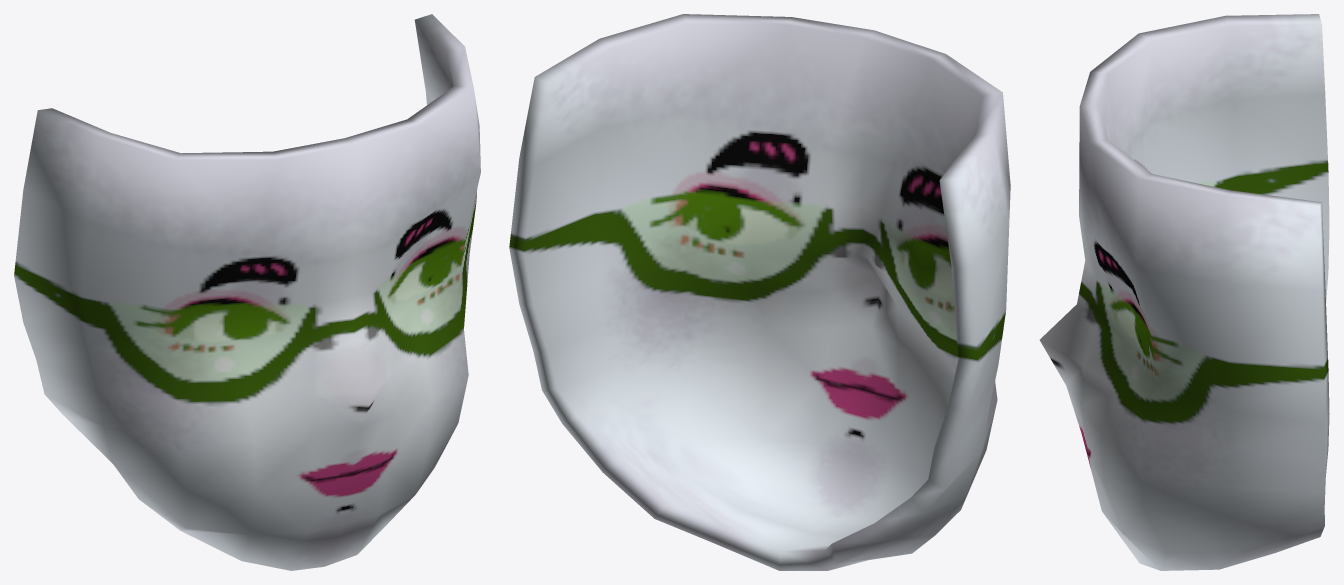
Rendered from mask_base 1.fbx.
The picture shows the model from 3 angles, left to right: view 1: azimuth 30°, elevation 25°; view 2: azimuth 150°, elevation 25°; view 3: azimuth 270°, elevation 25°; orthographic projection. The views are drawn at different scales.
Visible parts, largest first — view 1: Body_LP; view 2: Body_LP; view 3: Body_LP.
Part boxes in pixels (x1,y1,x2,y2): Body_LP: (14,14,480,570); Body_LP: (509,14,1010,570); Body_LP: (1039,14,1329,570).
Size of the model in its own units: 15.63 by 15.19 by 8.96.
1 material, 1 textured.
